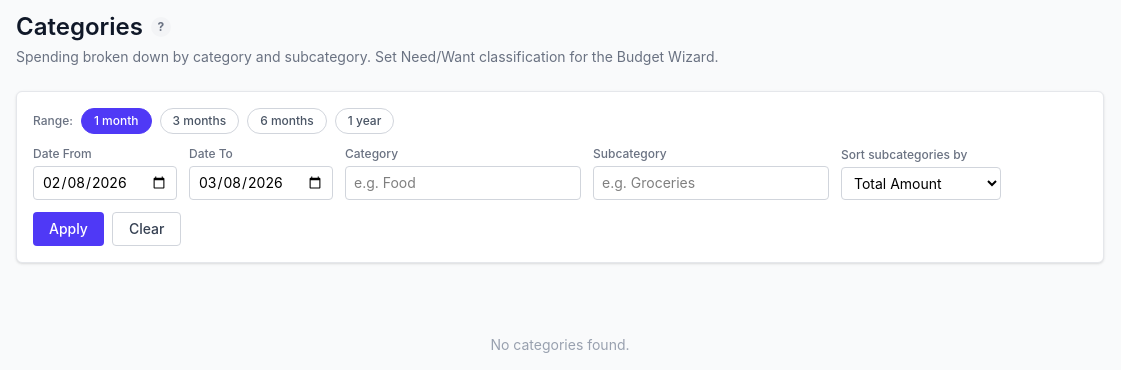
CategoriesPage › clears filters when Clear is clicked
This screenshot has width=1121, height=370.
Type "Food" into the field with placeholder "e.g. Food" at coordinates (463, 183), box [345,166,581,200]
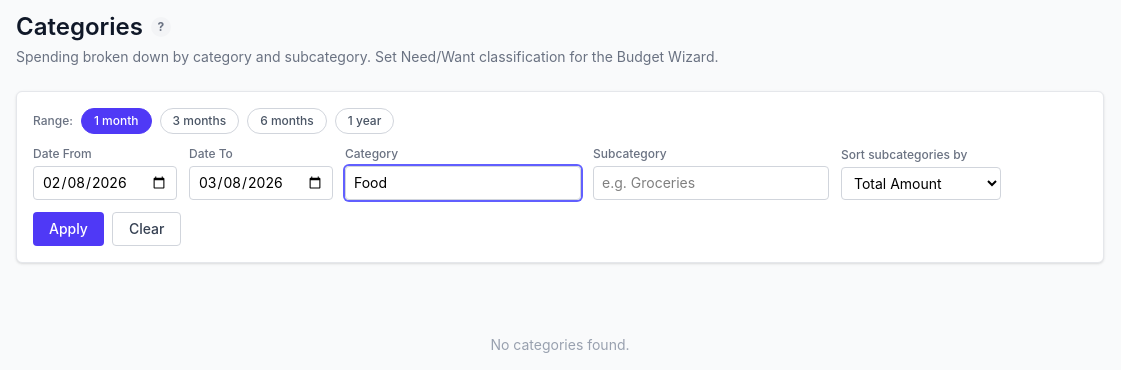
Click the button "Clear" at coordinates (147, 229), box [112,212,181,246]
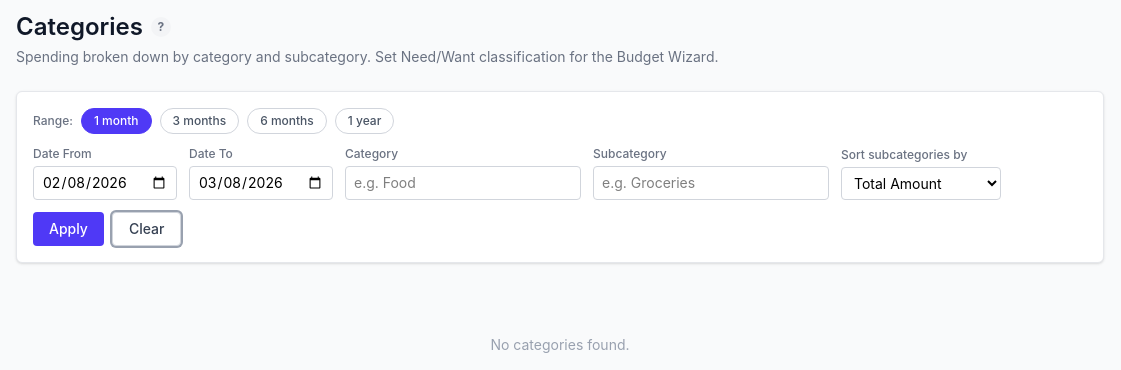
Expected: the field with placeholder "e.g. Food" is empty, [345,166,581,200]
